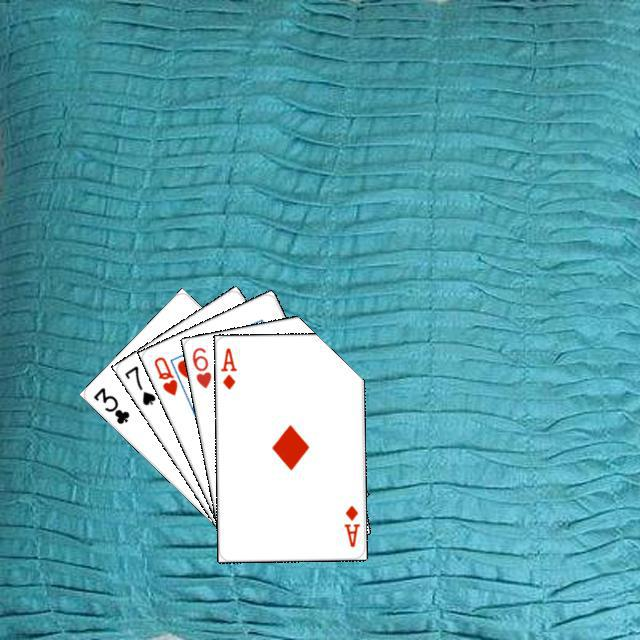3c: (88, 382, 131, 426)
6h: (187, 342, 213, 390)
7s: (120, 361, 157, 407)
Ad: (339, 501, 362, 548), (216, 343, 238, 391)
Qh: (149, 352, 179, 397)
